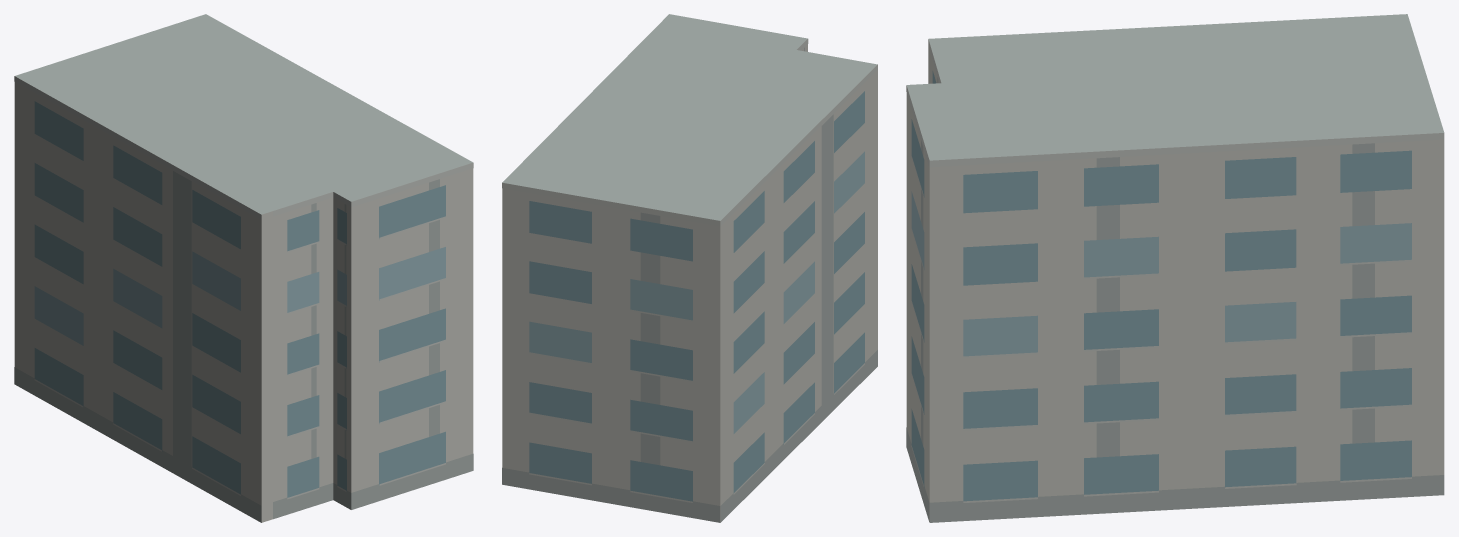
The model's file is survey-upis-32617282.glb.
3 renders of one model, left to right at view 1: azimuth 30°, elevation 25°; view 2: azimuth 150°, elevation 25°; view 3: azimuth 270°, elevation 25°, orthographic. The views are drawn at different scales.
Visible parts, largest first — view 1: survey-upis-32617282.tmp; view 2: survey-upis-32617282.tmp; view 3: survey-upis-32617282.tmp.
Boxes of the visible parts, <box> form: survey-upis-32617282.tmp: <box>14,14,473,522</box>; survey-upis-32617282.tmp: <box>502,14,877,522</box>; survey-upis-32617282.tmp: <box>906,14,1444,522</box>.
Bounding box in the file's own units: 11.42 × 13.15 × 17.71.
